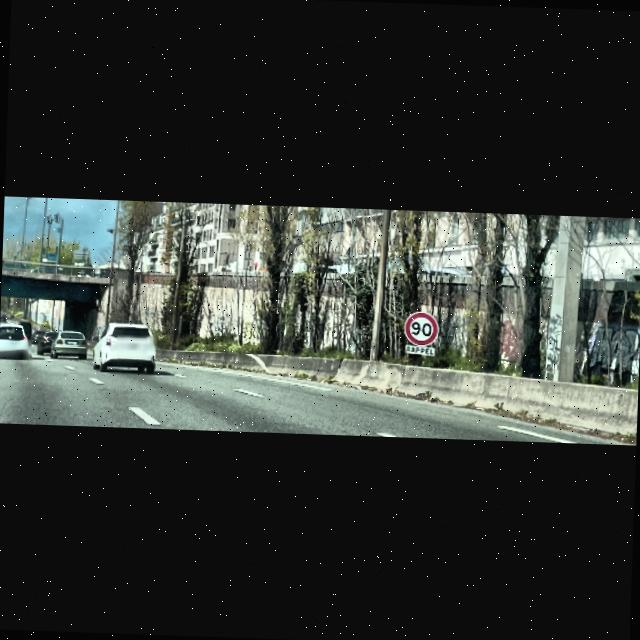speed_90: (402, 310, 440, 346)
